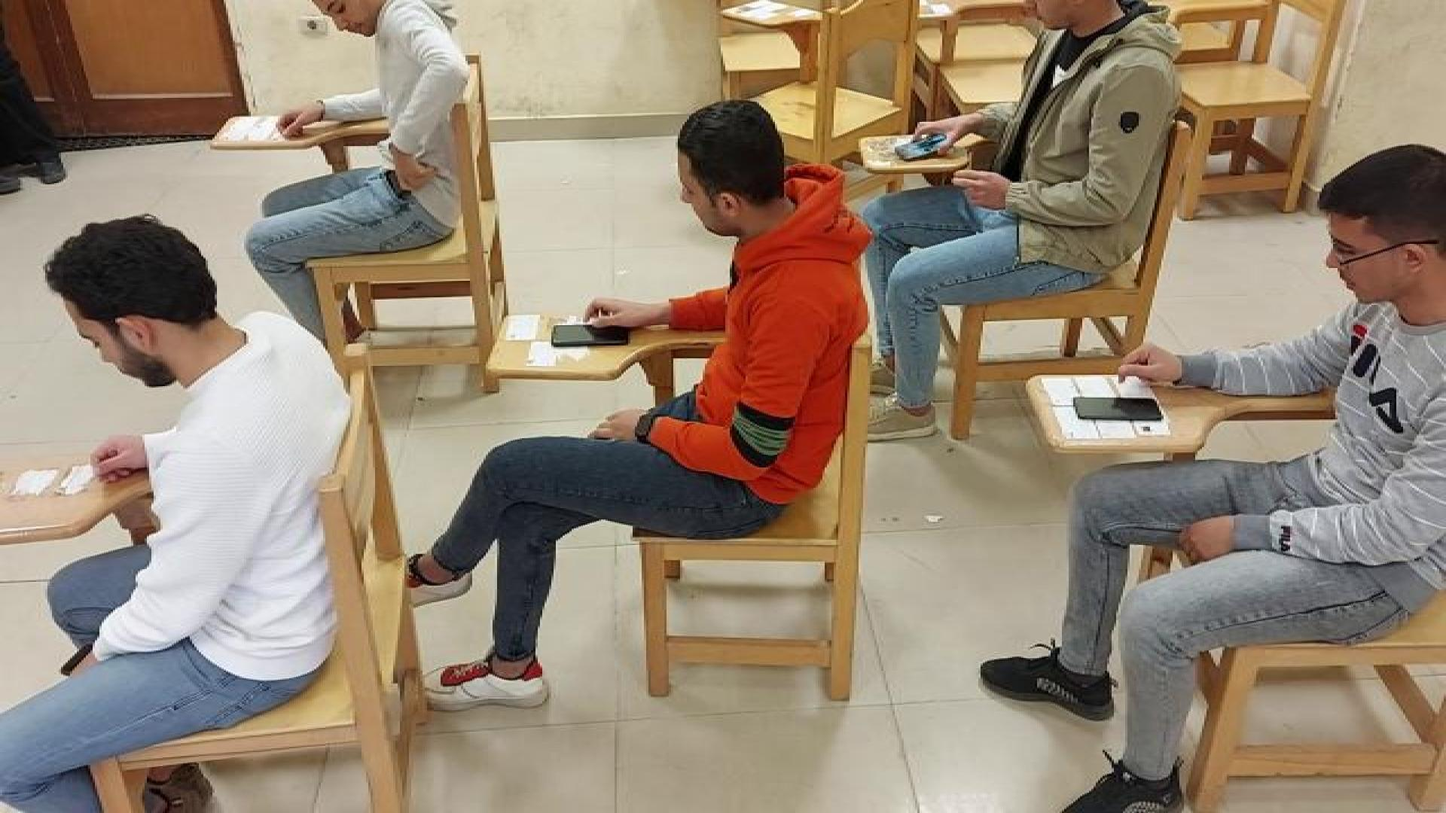phone: (1071, 391, 1168, 419), (548, 322, 636, 349), (895, 128, 956, 163)
